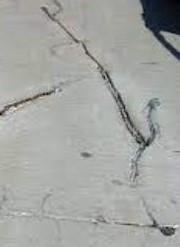crack: (40, 7, 162, 184), (1, 203, 180, 236), (0, 88, 54, 117)
